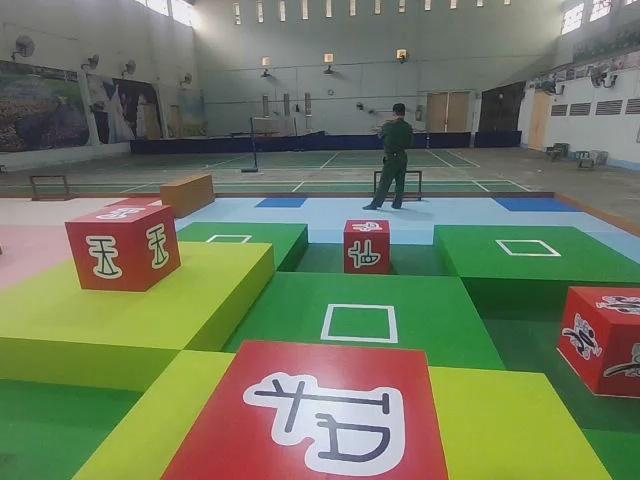R1: (557, 283, 640, 400)
R2 Real: (157, 337, 451, 480), (64, 198, 181, 294), (341, 217, 393, 277)
